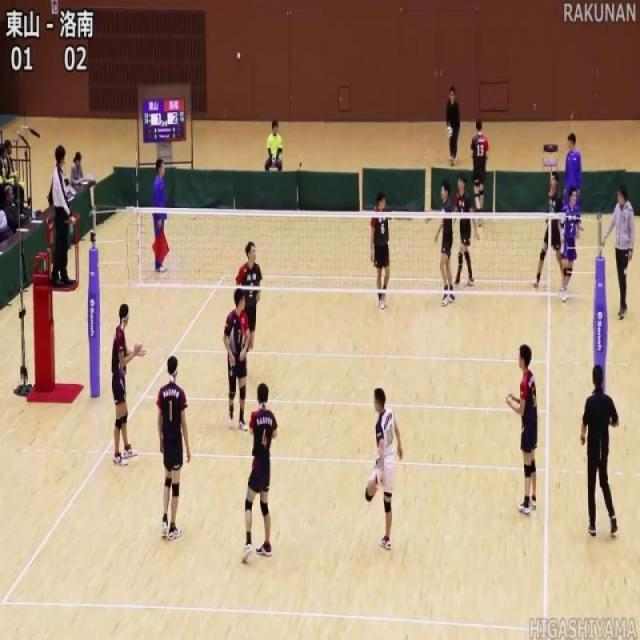volleyball: (445, 124, 453, 139)
